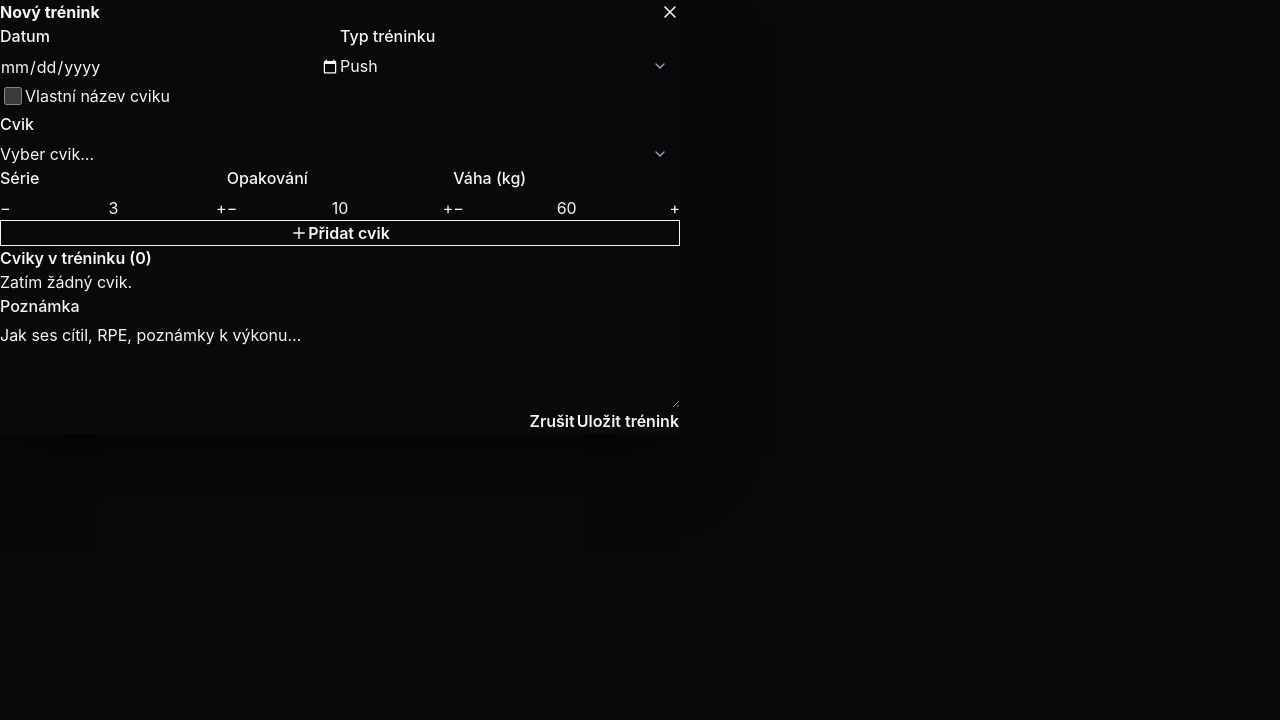
Test: WorkoutForm › +/− buttons change sets, reps and weight
This screenshot has width=1280, height=720.
Click the button named "Série: přidat 1". click: (221, 208)
box: [216,196,227,220]
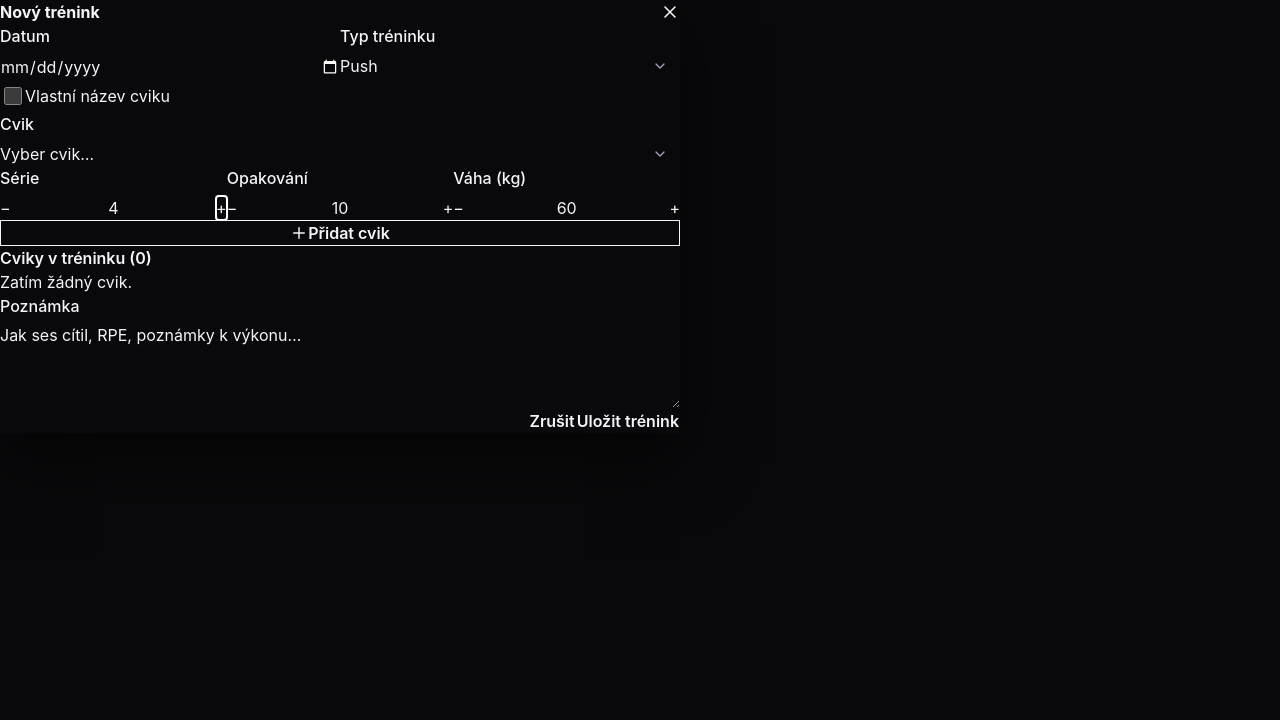
Click the button named "Opakování: ubrat 1". click: (232, 208)
box: [227,196,237,220]
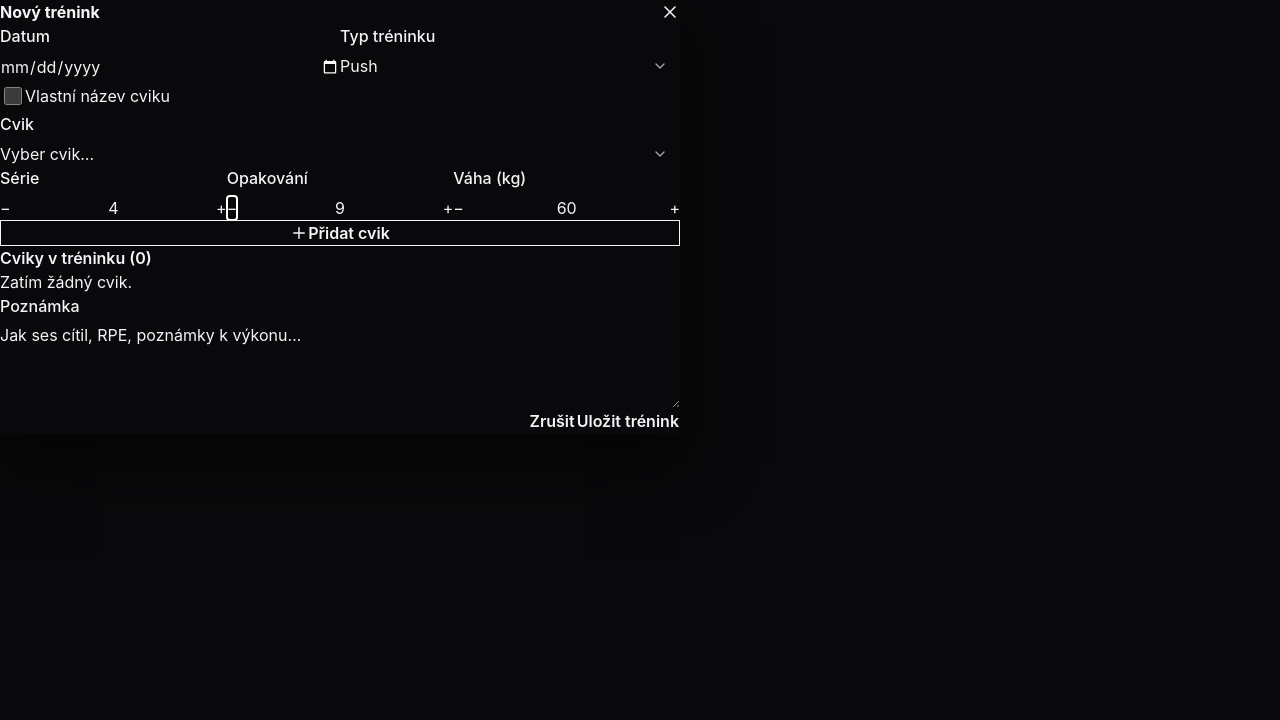
Click the button named "Váha (kg): přidat 2,5". click: (675, 208)
box: [669,196,680,220]
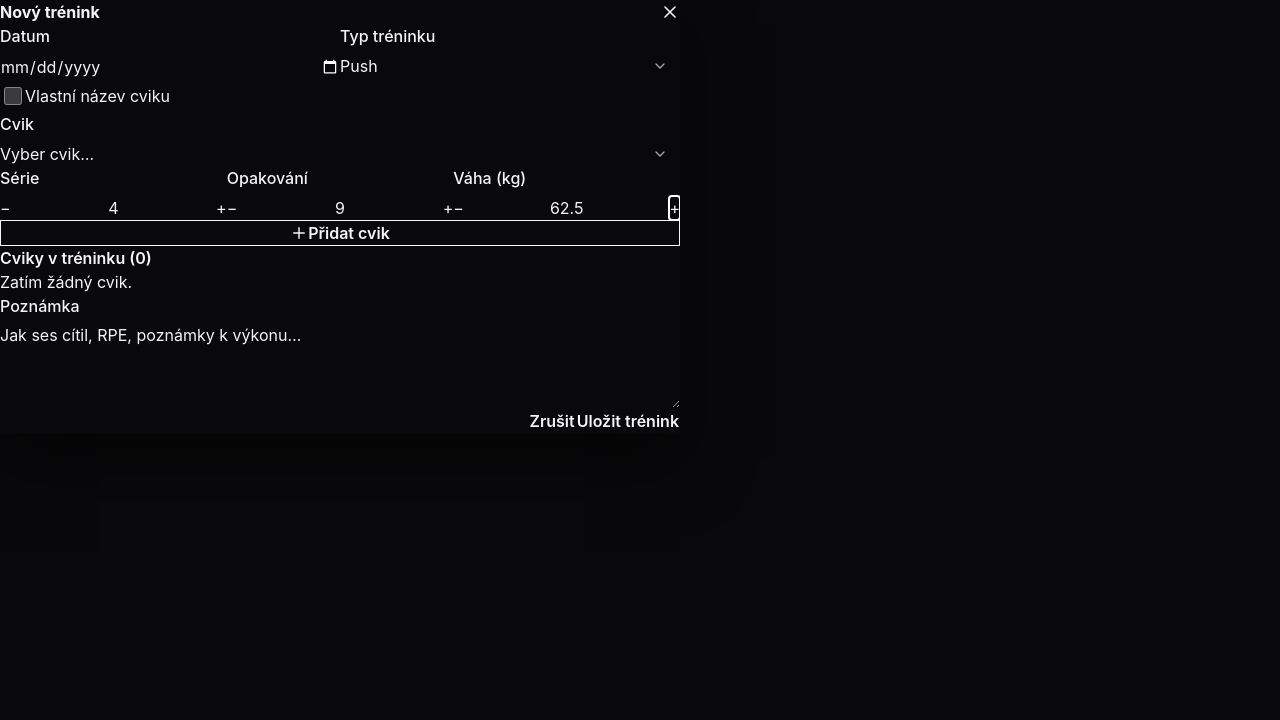
Expected: the number field labelled "Série" holds "4", [11,196,216,220]
Expected: the number field labelled "Opakování" holds "9", [237,196,443,220]
Expected: the number field labelled "Váha (kg)" holds "62.5", [464,196,669,220]
